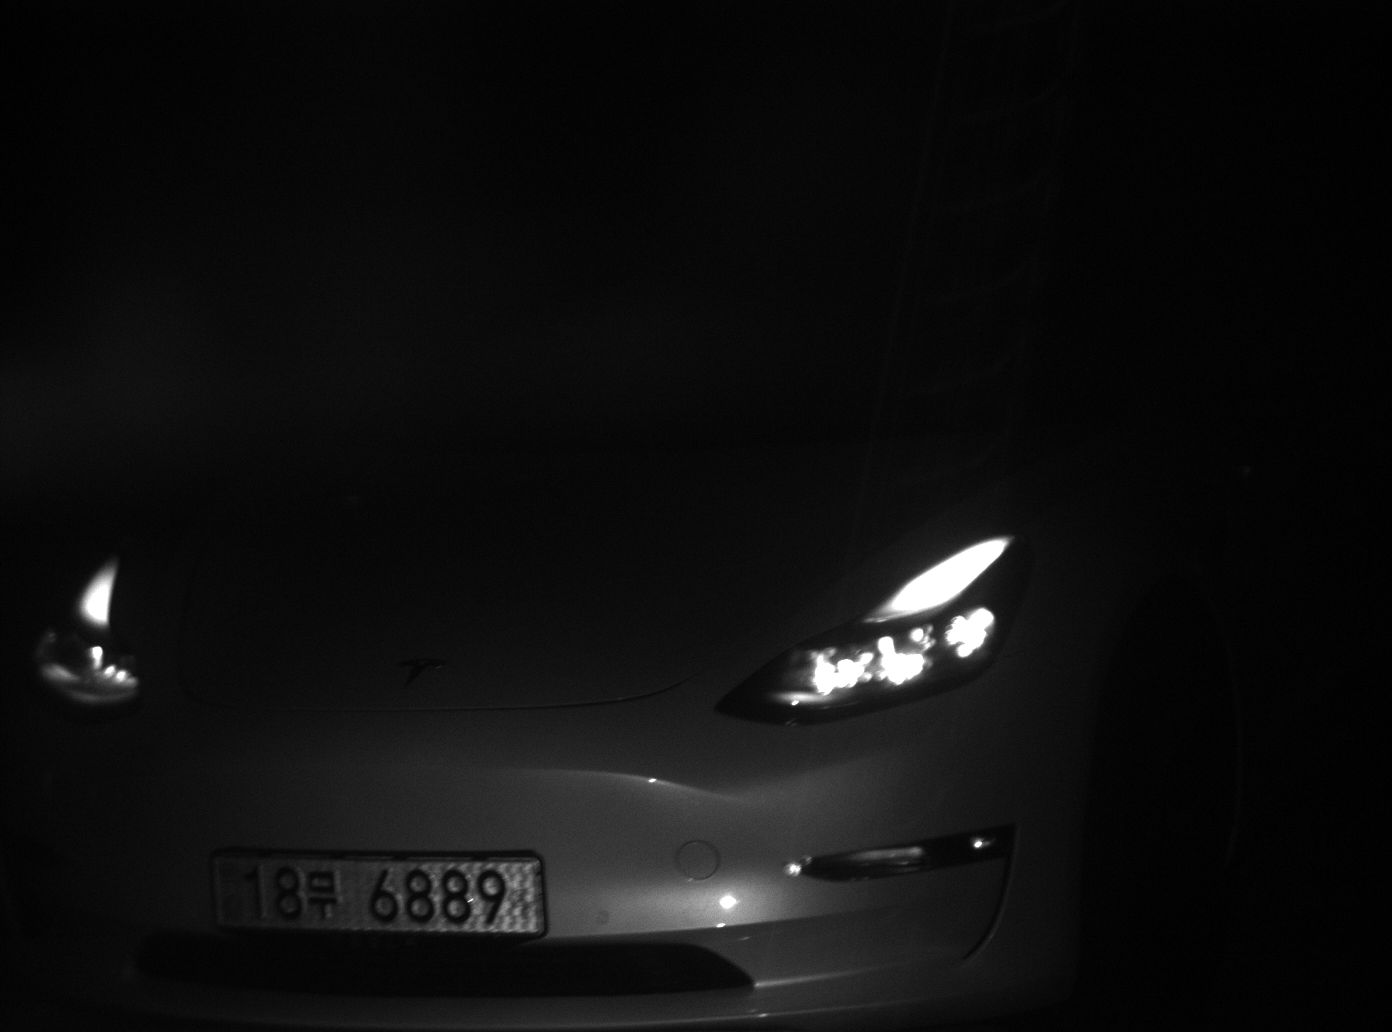car: (5, 268, 1174, 1032)
plate: (202, 841, 550, 943)
